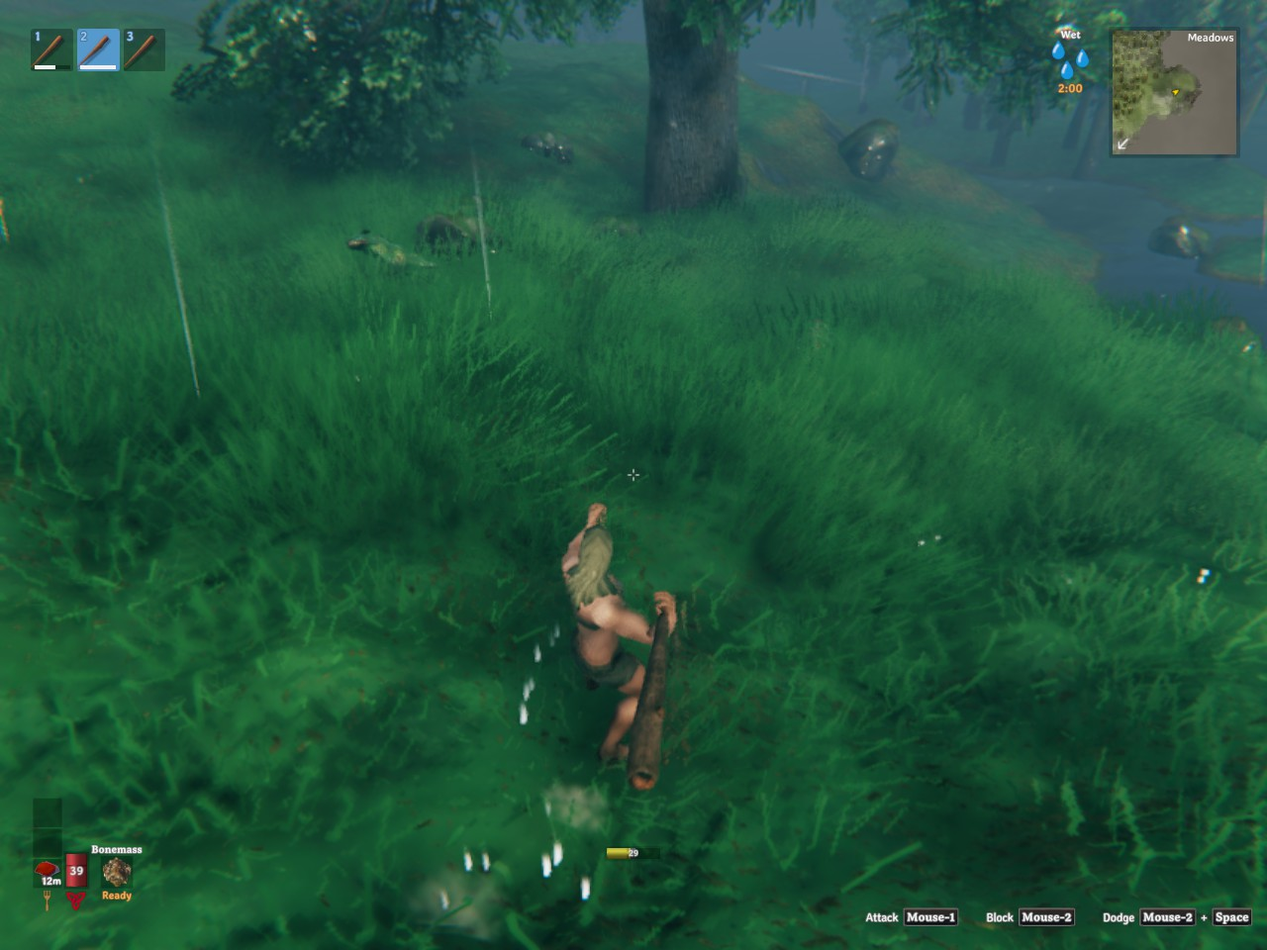Food Indicator: (36, 797, 63, 891)
Health Bar: (63, 820, 90, 891)
Hotbar: (24, 21, 195, 80)
Neck: (348, 231, 437, 273)
Stamina Bar: (601, 841, 662, 865)
Status Indicator: (1024, 22, 1111, 100)
